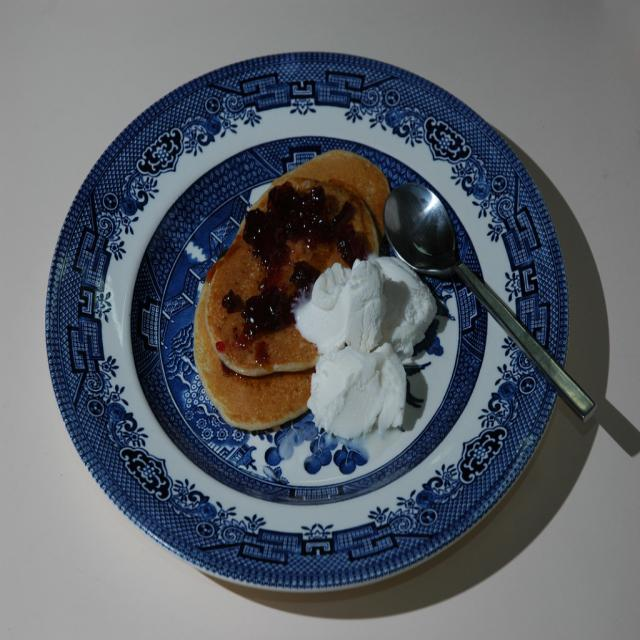non-organic waste: (35, 39, 568, 609)
